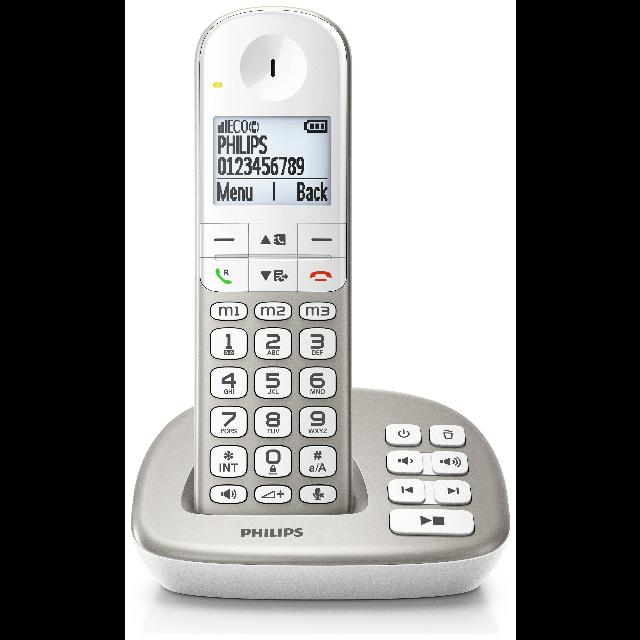Telephone-Set: (143, 5, 515, 607)
